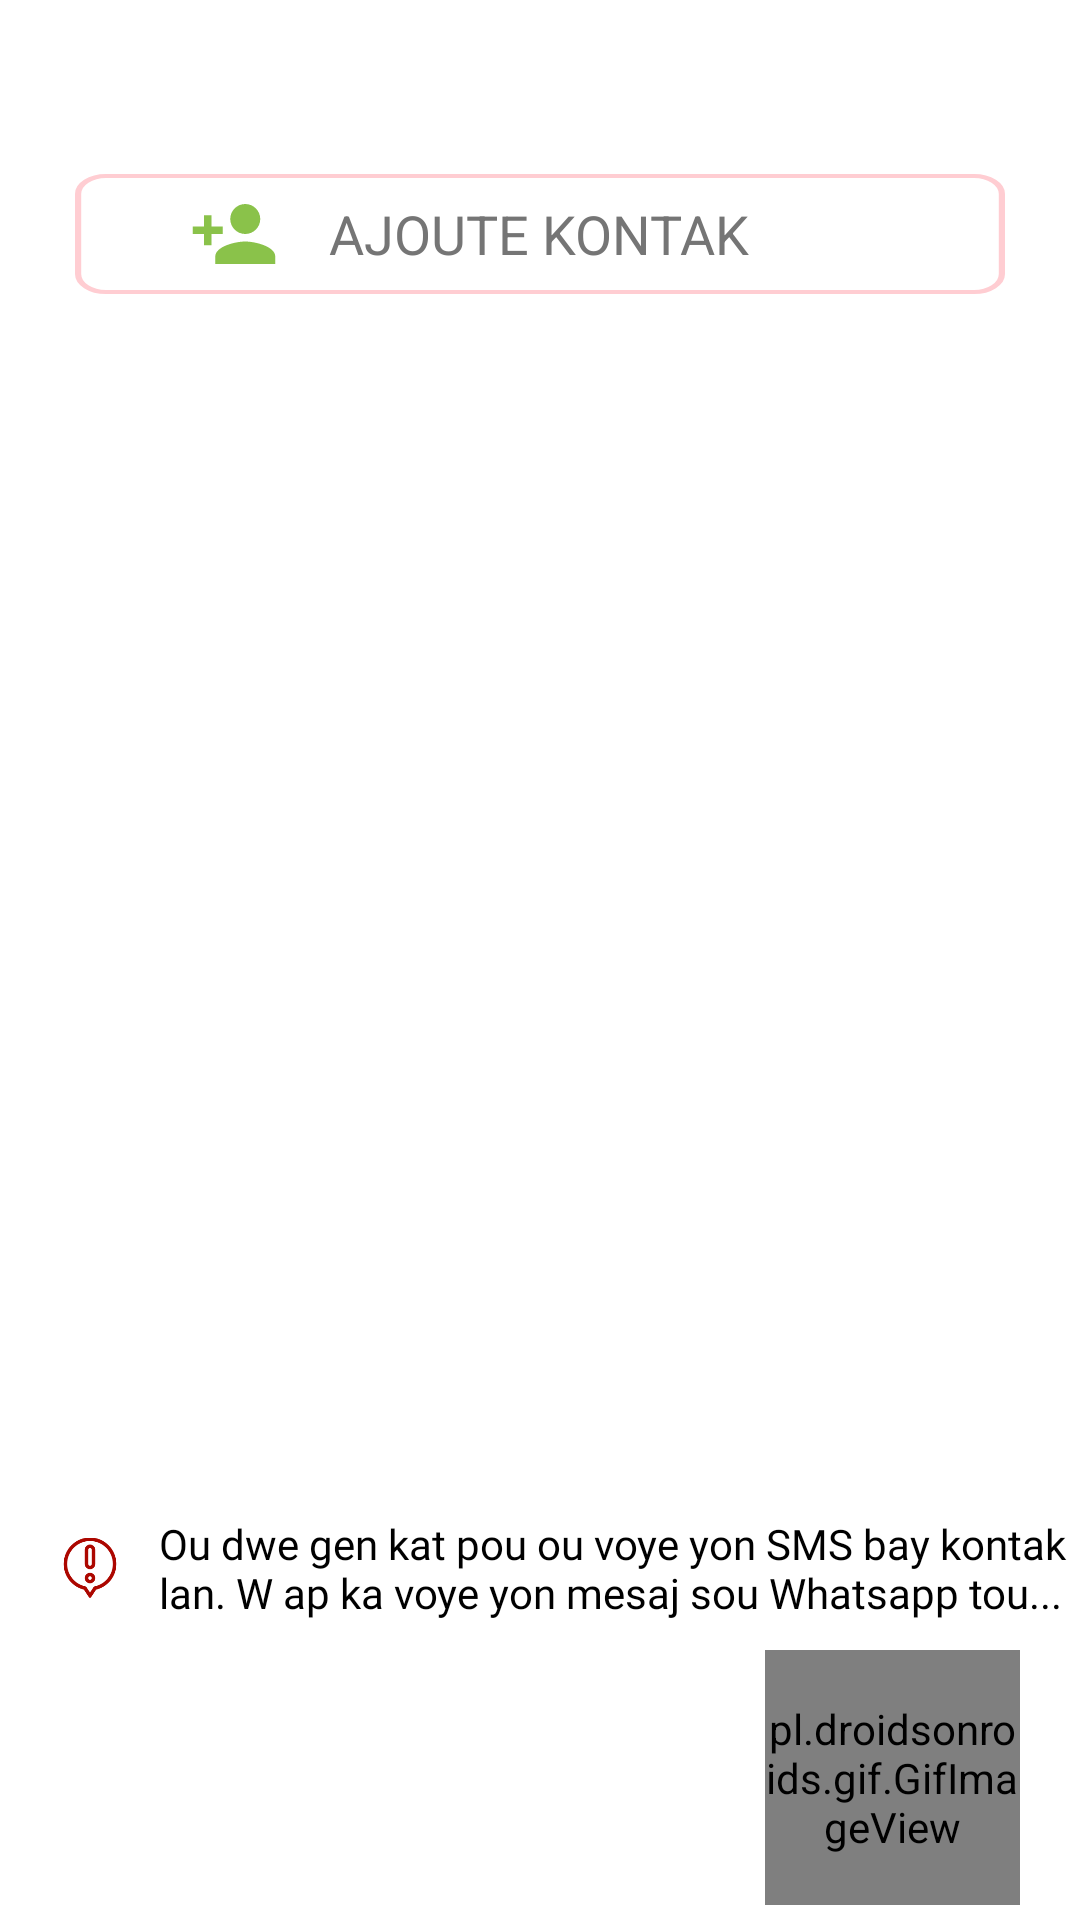

Where icons sit on this 1080px×1920px app screen, as [left=x1, top=y1, right=x2, bottom=y2]:
person add: [left=192, top=204, right=276, bottom=264]
warning: [left=63, top=1538, right=117, bottom=1598]
